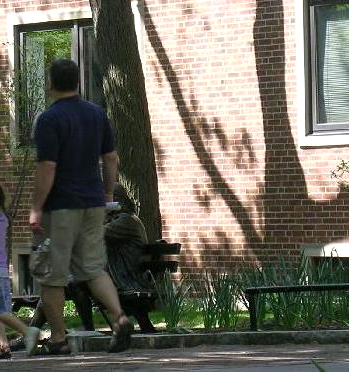pedestrian: (29, 58, 134, 355)
